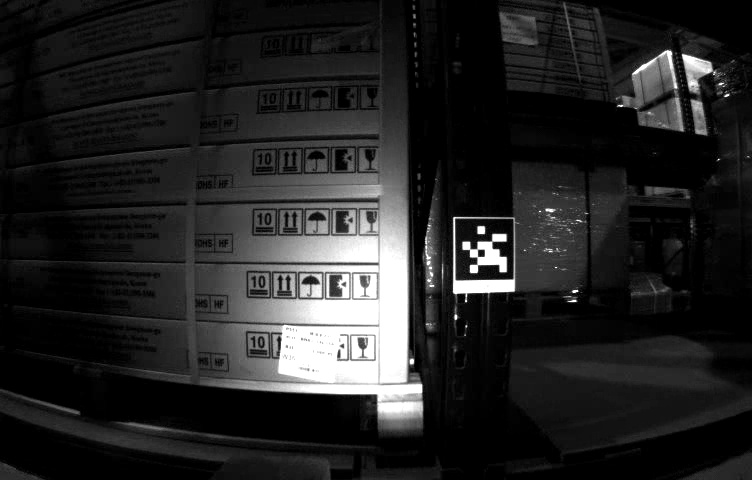True Barcode: (282, 325, 339, 385)
